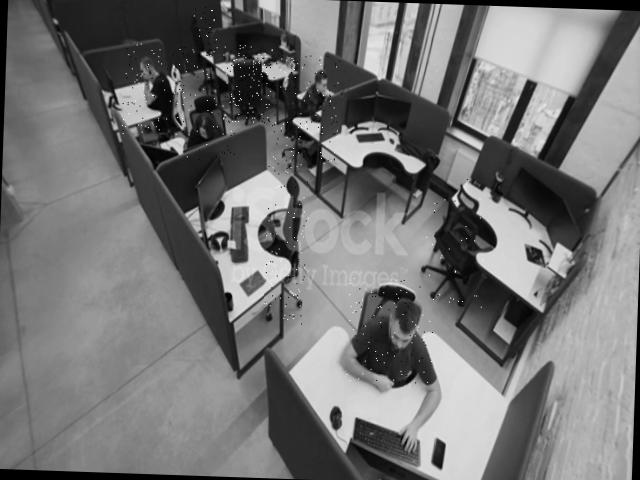empty chair: (416, 174, 488, 318), (263, 164, 311, 325), (222, 45, 272, 125), (192, 7, 219, 80)
occupiedchair: (346, 278, 436, 384), (270, 53, 340, 167), (121, 42, 189, 136), (182, 86, 238, 164)
